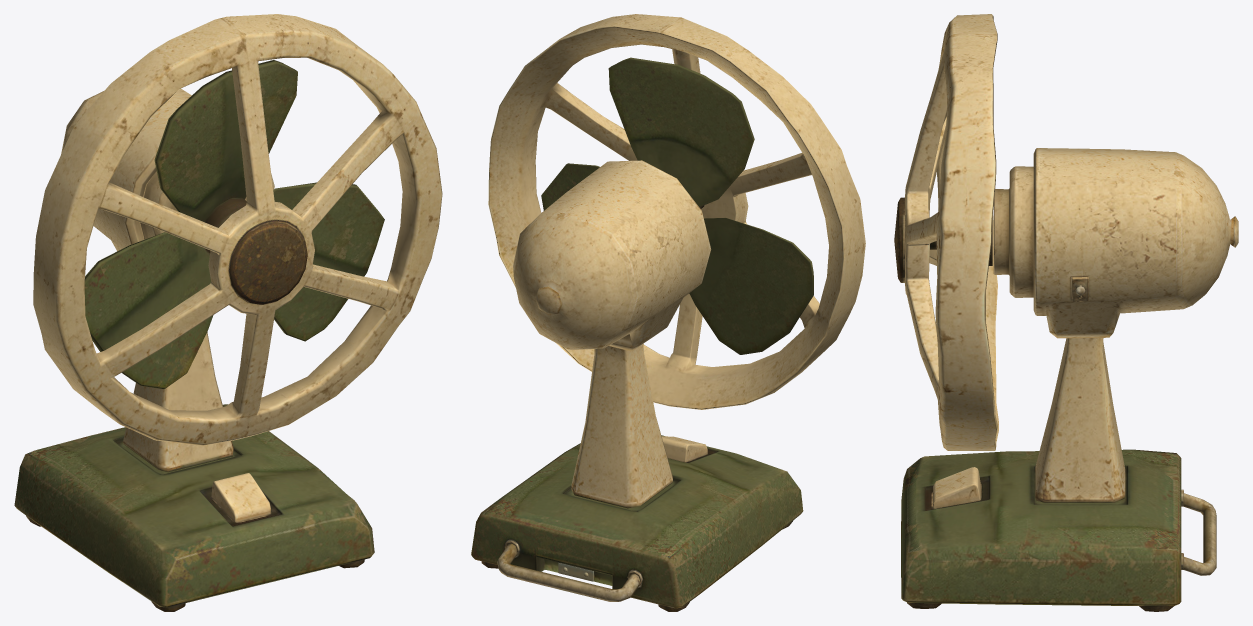
The model's file is P03_fan_Runtime_1k.glb.
3 renders of one model, left to right at view 1: azimuth 30°, elevation 25°; view 2: azimuth 150°, elevation 25°; view 3: azimuth 270°, elevation 25°, orthographic. The views are drawn at different scales.
Visible parts, largest first — view 1: fbc1ea08_dcbc_4d45_9ca7_174e6c749c83; view 2: fbc1ea08_dcbc_4d45_9ca7_174e6c749c83; view 3: fbc1ea08_dcbc_4d45_9ca7_174e6c749c83.
Part boxes in pixels (x1,y1,x2,y2): fbc1ea08_dcbc_4d45_9ca7_174e6c749c83: (14,14,442,611); fbc1ea08_dcbc_4d45_9ca7_174e6c749c83: (471,14,865,611); fbc1ea08_dcbc_4d45_9ca7_174e6c749c83: (894,14,1238,611).
Bounding box in the file's own units: 0.3145 × 0.42 × 0.2485.
1 material, 1 textured.
